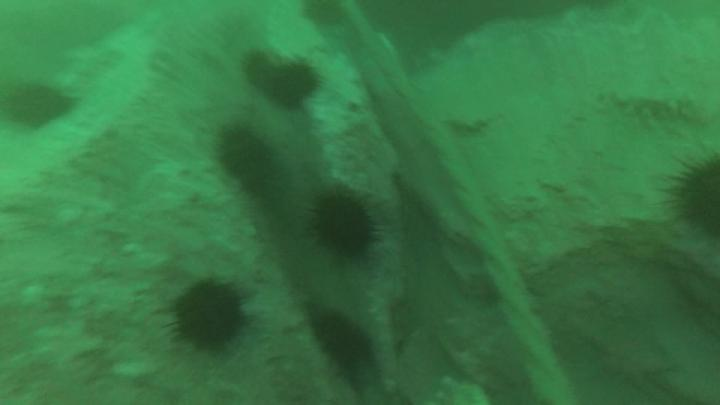echinus: (173, 282, 246, 351), (311, 197, 377, 260), (221, 129, 276, 194), (677, 156, 720, 234), (313, 313, 373, 365), (4, 86, 71, 130), (269, 63, 317, 106), (242, 51, 276, 85), (305, 2, 345, 26)
holothurian: (616, 93, 706, 122)
